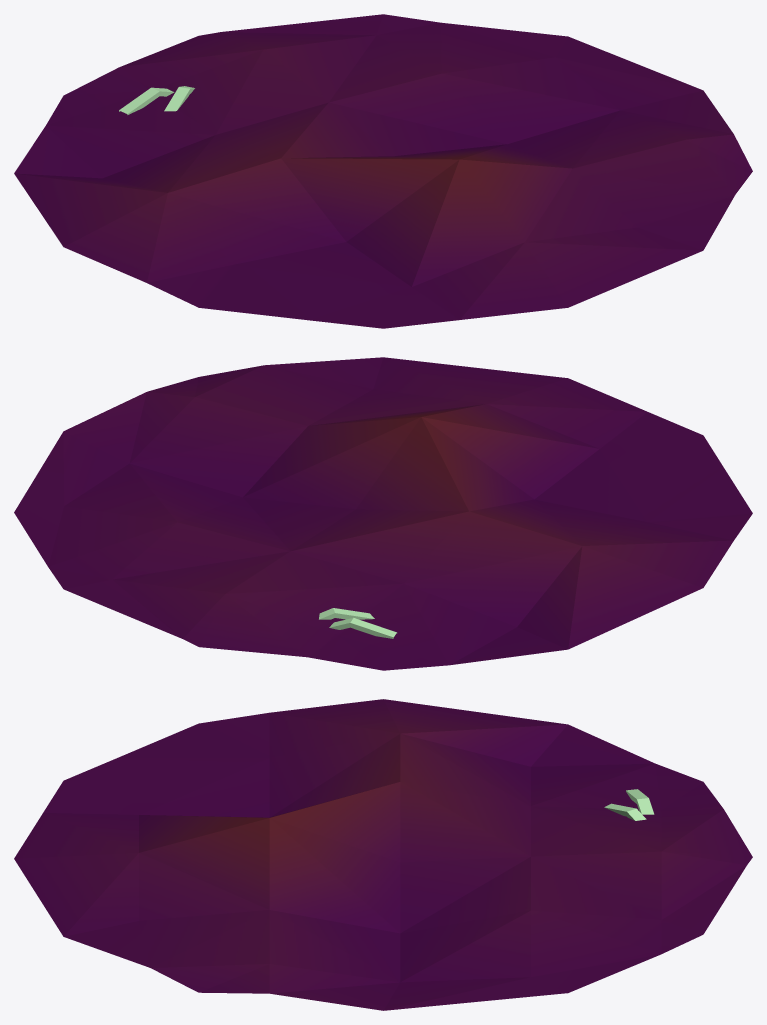
Rendered from 口味水.fbx.
3 renders of one model, top to bottom at view 1: azimuth 30°, elevation 25°; view 2: azimuth 150°, elevation 25°; view 3: azimuth 270°, elevation 25°, orthographic.
Visible parts, largest first — view 1: 平面.001; view 2: 平面.001; view 3: 平面.001.
Part boxes in pixels (left/top/right/bottom): 平面.001: left=14, top=14, right=752, bottom=328; 平面.001: left=14, top=357, right=752, bottom=670; 平面.001: left=14, top=699, right=752, bottom=1010.
Bounding box in the file's own units: 188 × 16.93 × 188.
